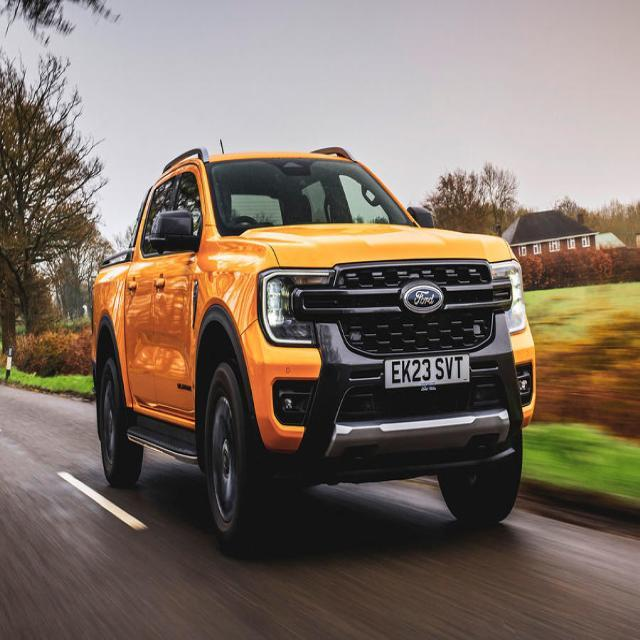person: (89, 140, 536, 552)
